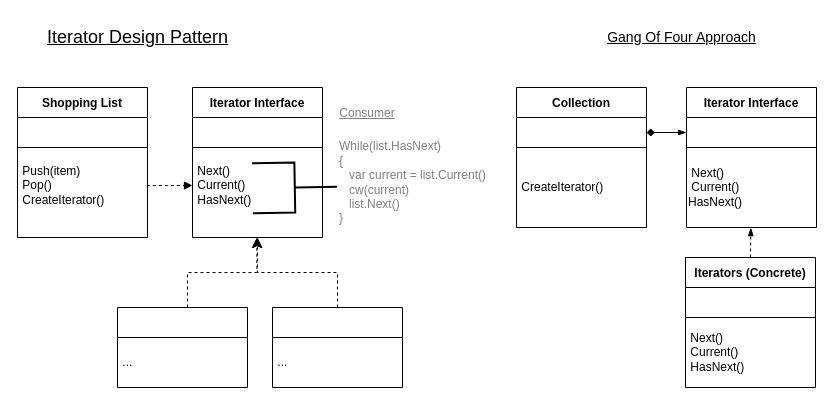
Some shapes in this 834 by 405 pixel diagram are drawn without their labels. The box of each missing label's shape, as (x1, y1, x2, y2) in pixels:
ArrayIterator: (272, 306, 402, 388)
ListIterator: (116, 306, 248, 388)
